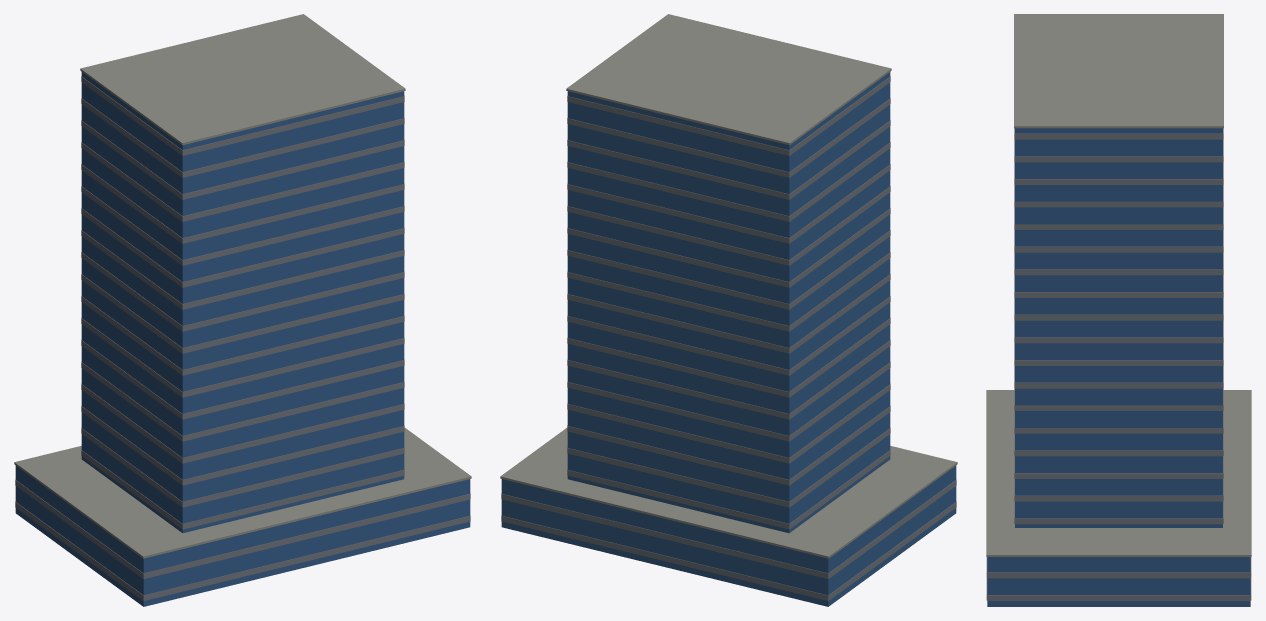
The model's file is TorreCristalB.obj.
3 renders of one model, left to right at view 1: azimuth 30°, elevation 25°; view 2: azimuth 150°, elevation 25°; view 3: azimuth 270°, elevation 25°, orthographic. The views are drawn at different scales.
Parts seen in each view (by area): view 1: TorreCristalB; view 2: TorreCristalB; view 3: TorreCristalB.
Boxes of the visible parts, x1,y1,x2,y2 form: TorreCristalB: (14,14,471,606); TorreCristalB: (500,14,957,606); TorreCristalB: (986,14,1251,606).
Size of the model in its own units: 56.3 by 72.35 by 38.3.
